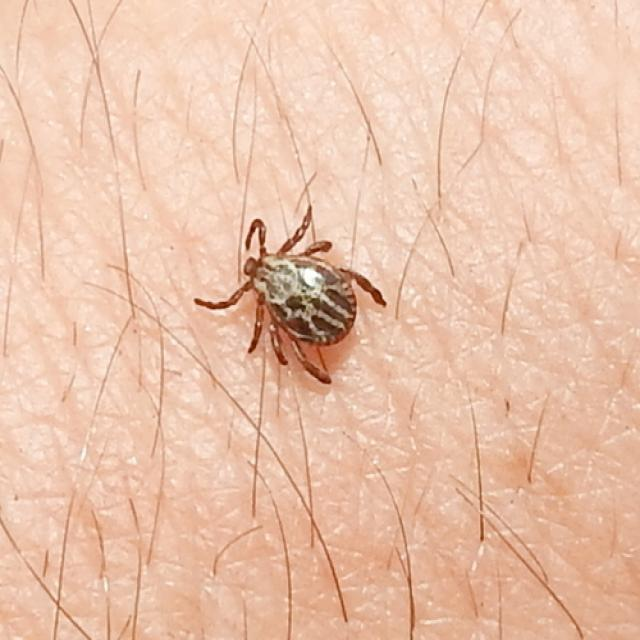Dermacentor Reticulatus-M: (195, 206, 385, 384)
